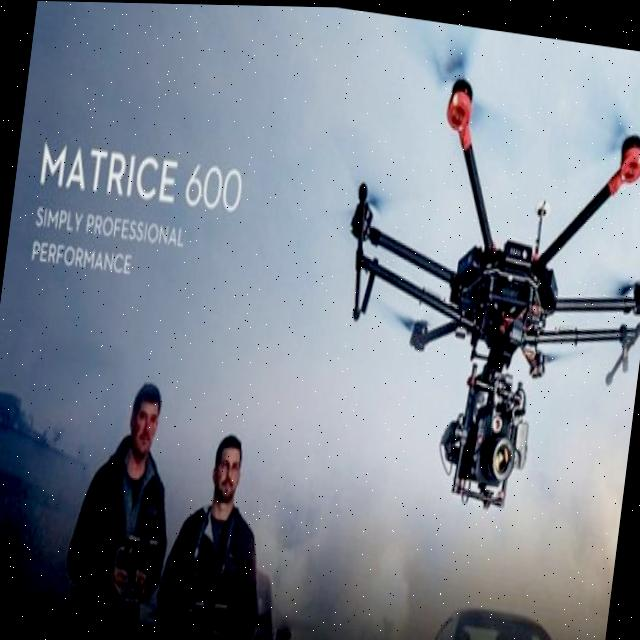drone: (300, 42, 640, 424)
